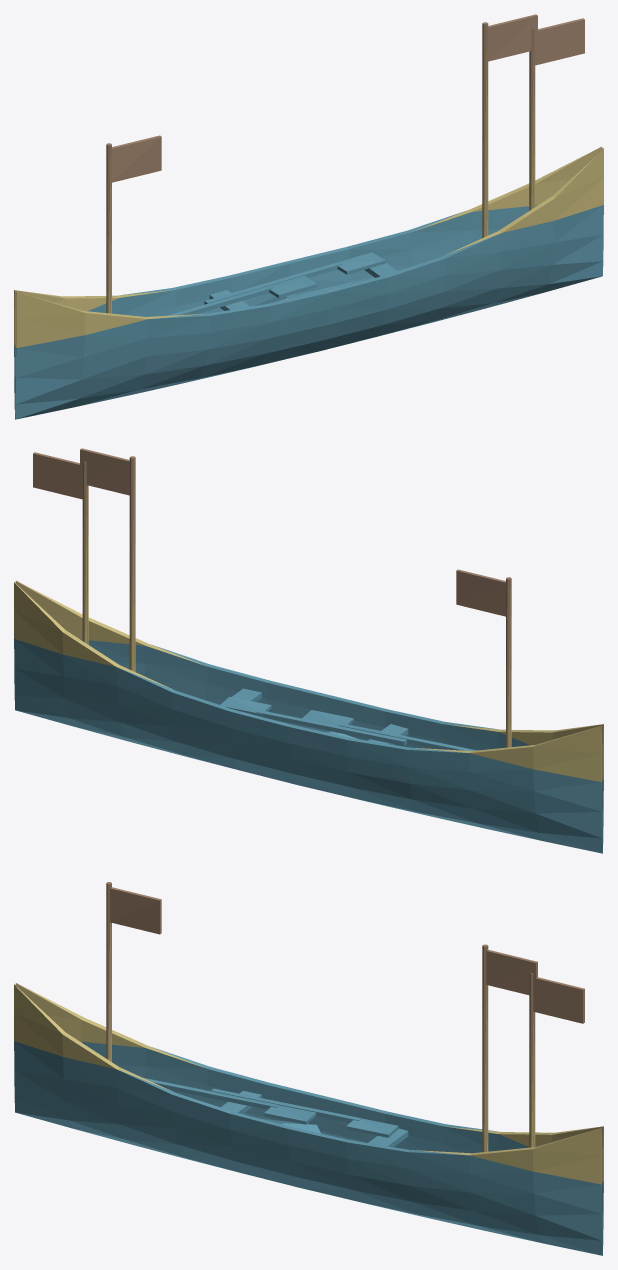
File: fishing-canoe-01.glb
The picture shows the model from 3 angles, top to bottom: view 1: azimuth 30°, elevation 25°; view 2: azimuth 150°, elevation 25°; view 3: azimuth 330°, elevation 25°; orthographic projection.
Parts seen in each view (by area): view 1: fishing_canoe_01; view 2: fishing_canoe_01; view 3: fishing_canoe_01.
Part boxes in pixels (box(x1,y1,x2,y2)): fishing_canoe_01: box(14, 14, 603, 419); fishing_canoe_01: box(14, 448, 603, 853); fishing_canoe_01: box(14, 882, 603, 1255).
Bounding box in the file's own units: 5.8 × 2.71 × 0.7328.
